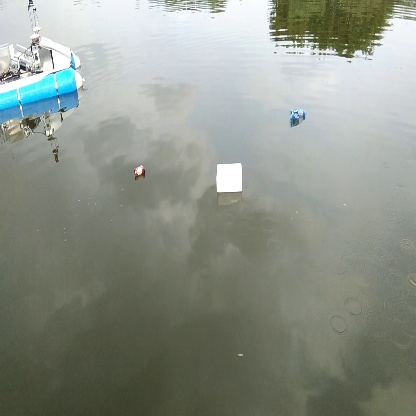bottle: (286, 105, 311, 122), (131, 162, 150, 177)
plastic-garbage: (213, 161, 246, 197)
